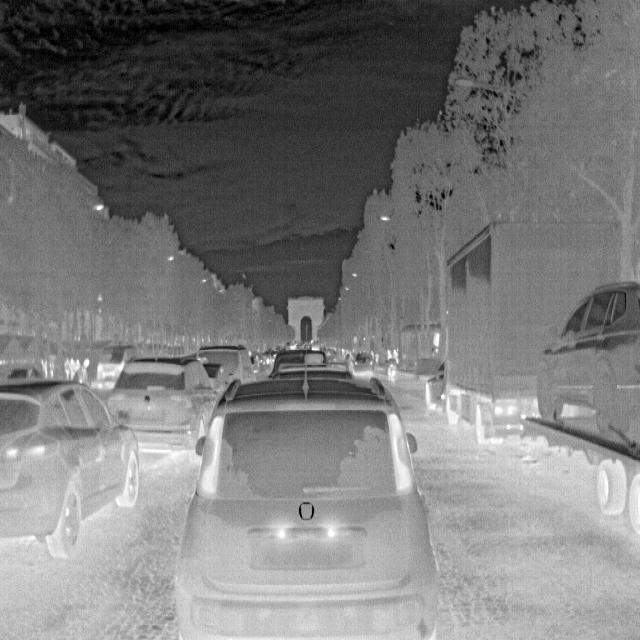Vehicle: (170, 342, 446, 638), (0, 375, 141, 561), (533, 264, 640, 440), (103, 349, 225, 464)
